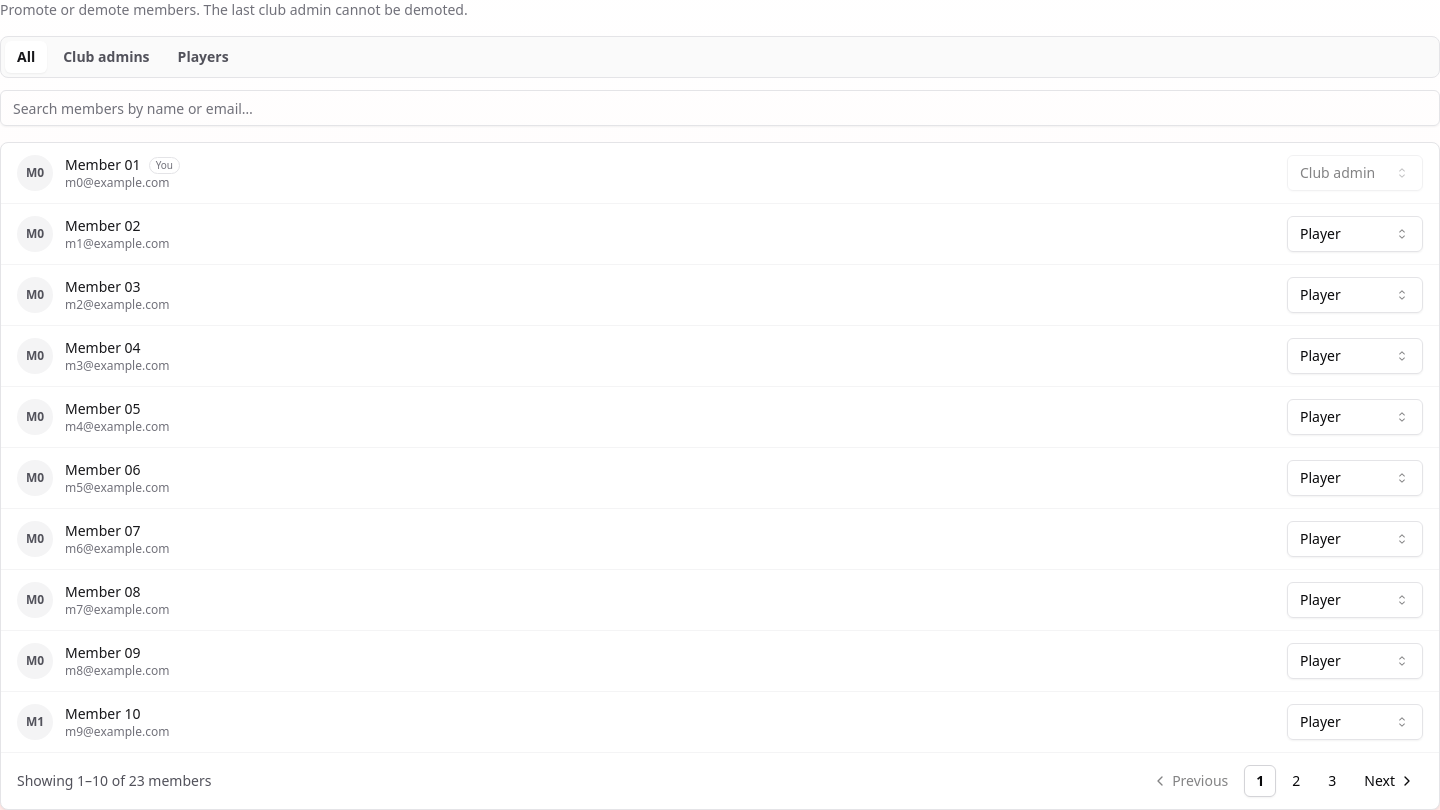
ClubAdminRoster › follows a member onto their new page after a role change
The width and height of the screenshot is (1440, 810).
(page scrolled)
Expected: the text "Member 01" is shown, [65,155,141,175]
Click the button named "Go to page 3" at (1332, 781), box [1316,765,1348,797]
(page scrolled)
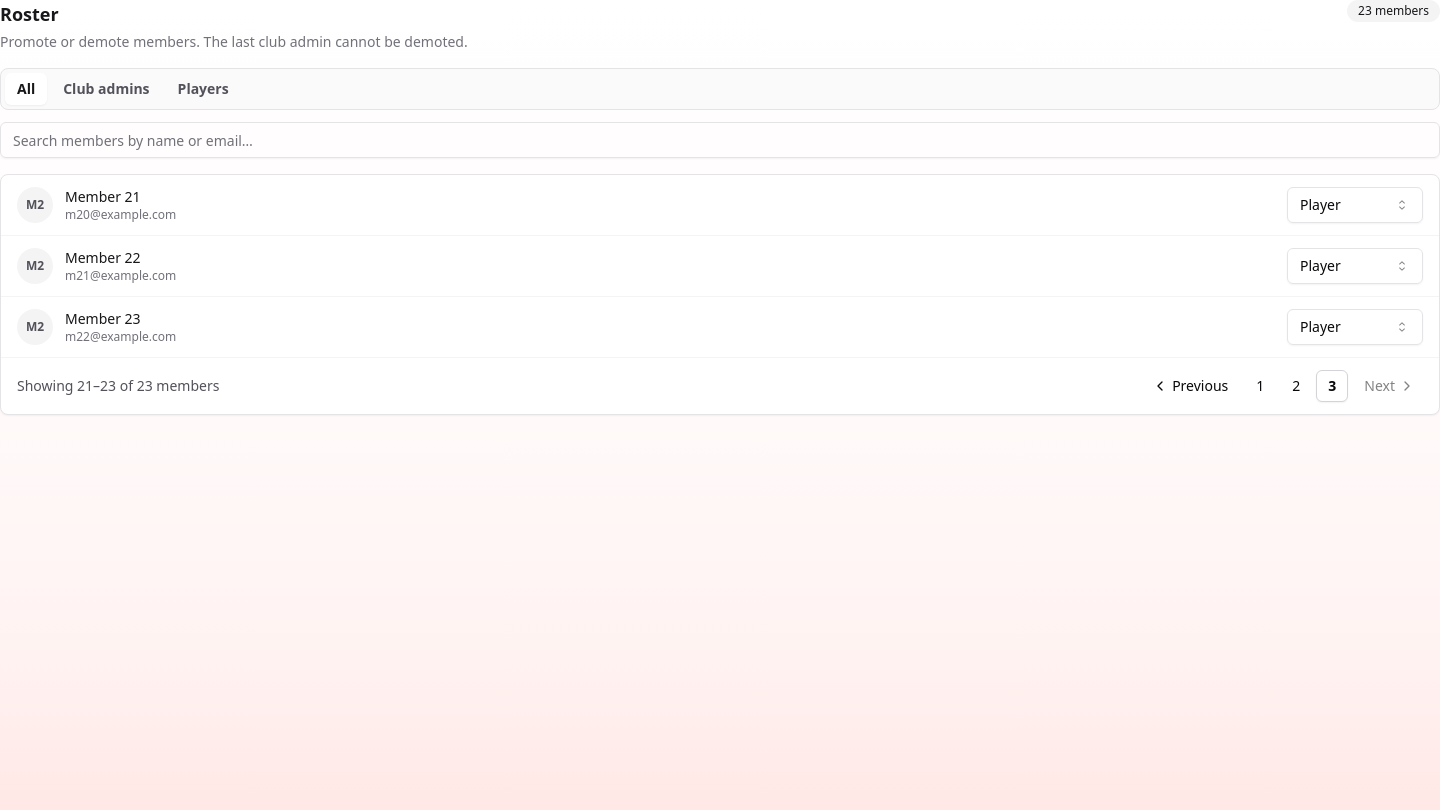
Expected: the text "Member 23" is shown, [65,309,141,329]
Click the dropdown named "Role for Member 23" at (1355, 327), box [1287,309,1423,345]
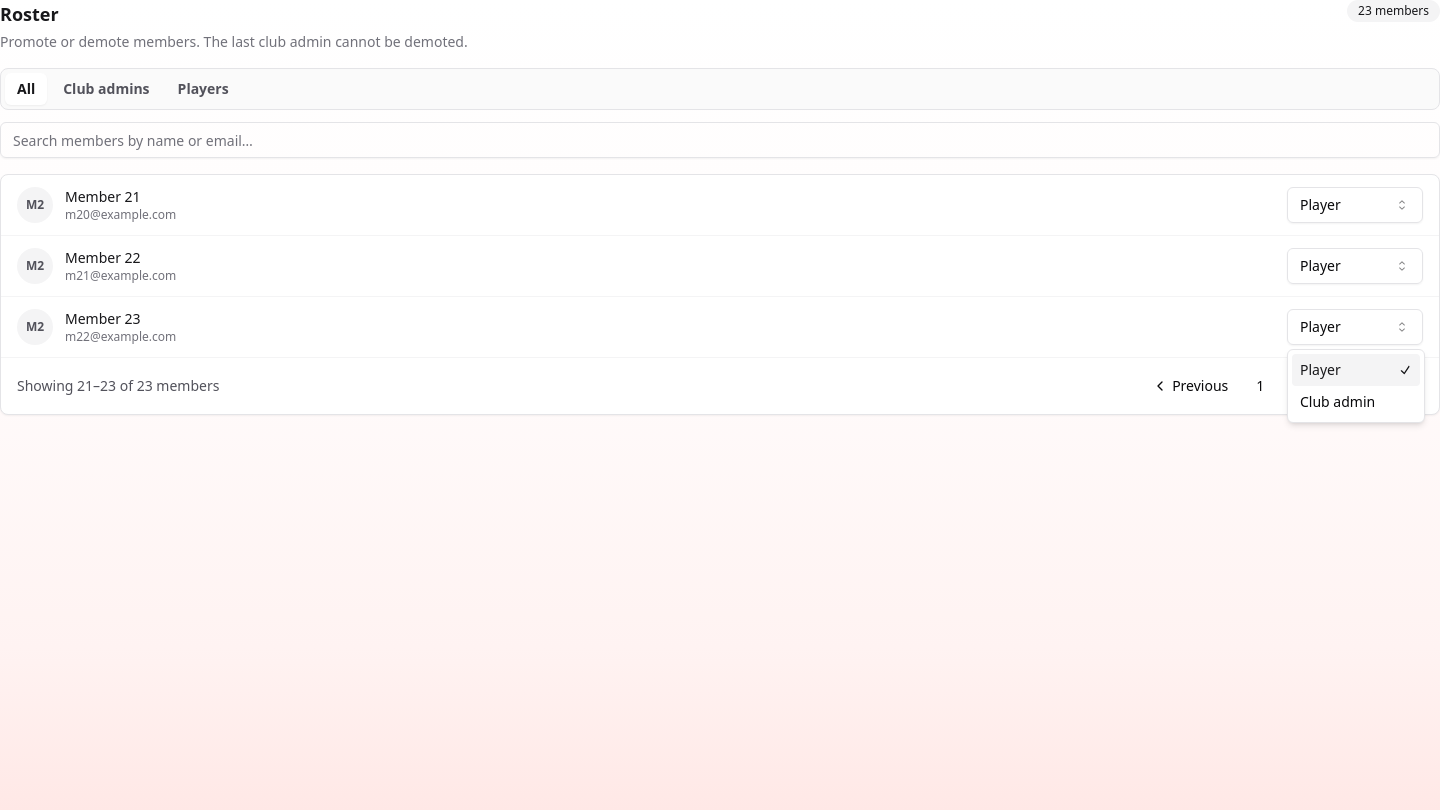
Click the option "Club admin" at (1338, 402), box [1300,392,1375,411]
(page scrolled)
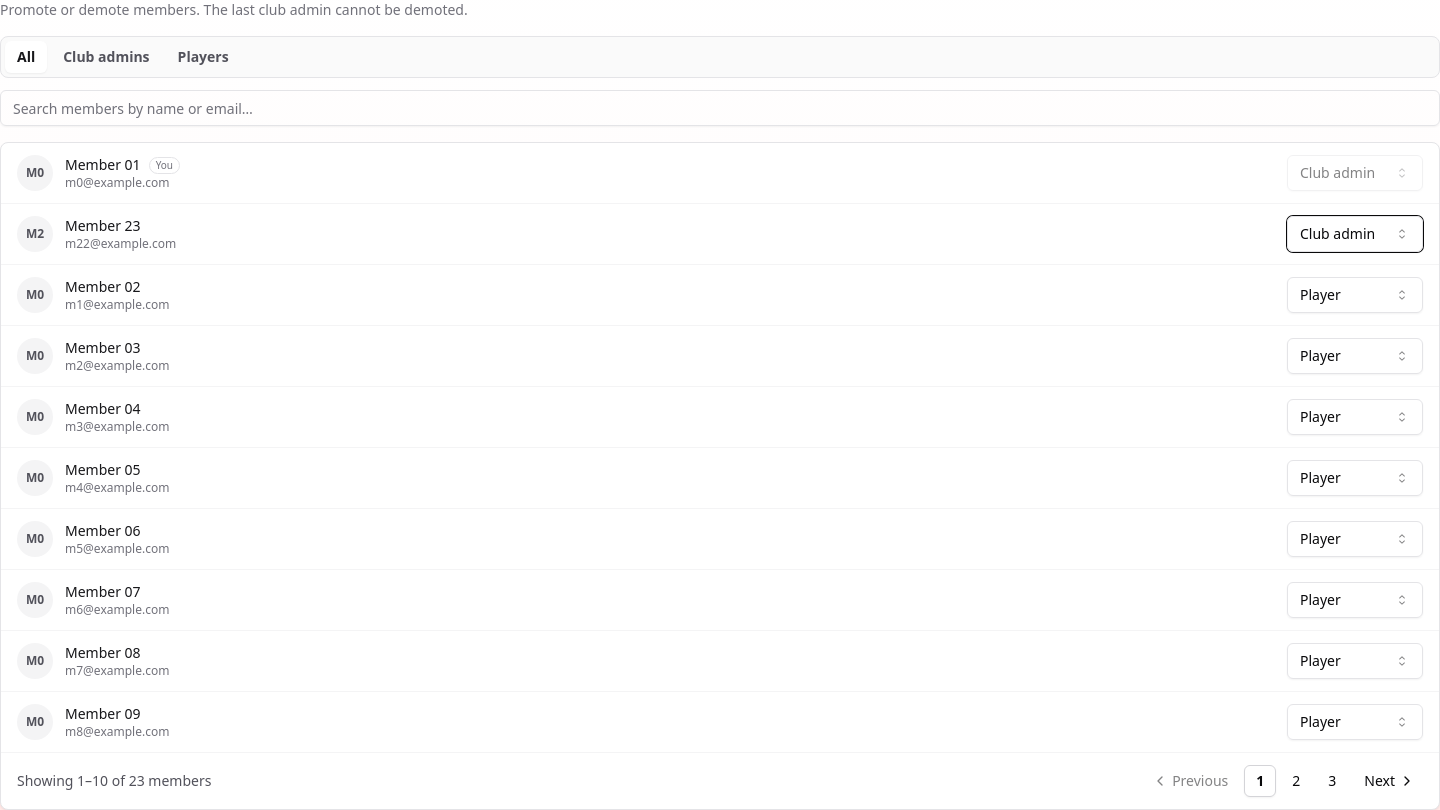
Expected: the text "Member 23" is shown, [65,216,141,236]
Expected: the text "Member 01" is shown, [65,155,141,175]
Expected: the text "Member 21" is gone
